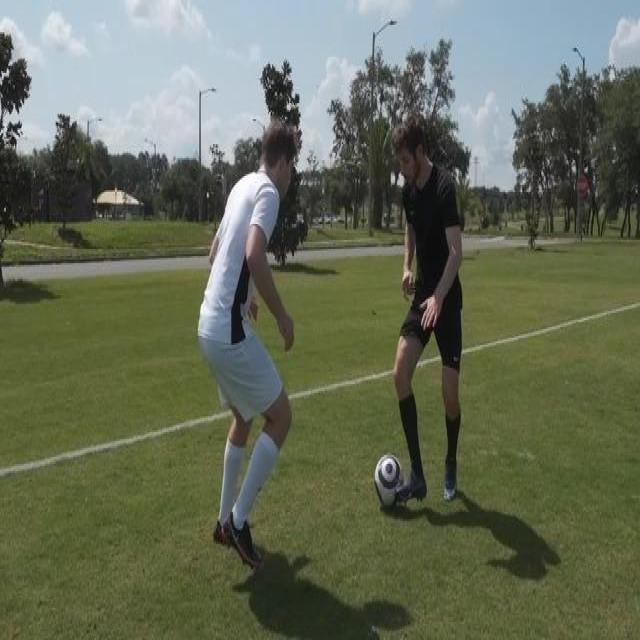Soccer Ball: (374, 452, 402, 514)
